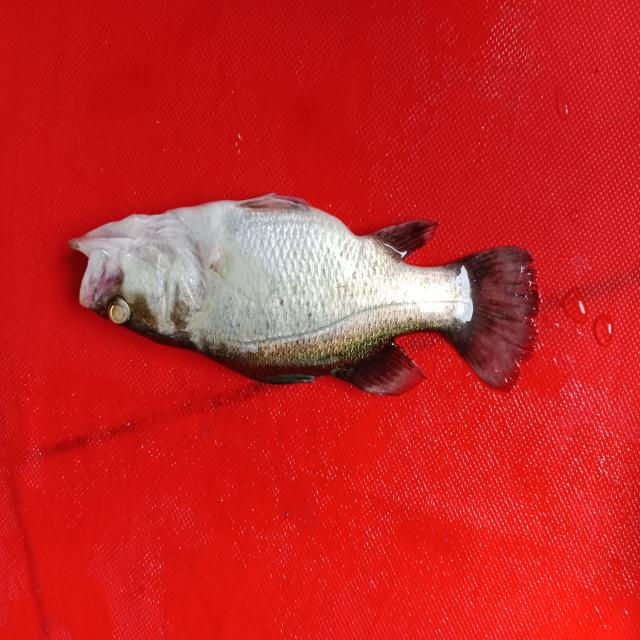ikan: (57, 167, 555, 412)
